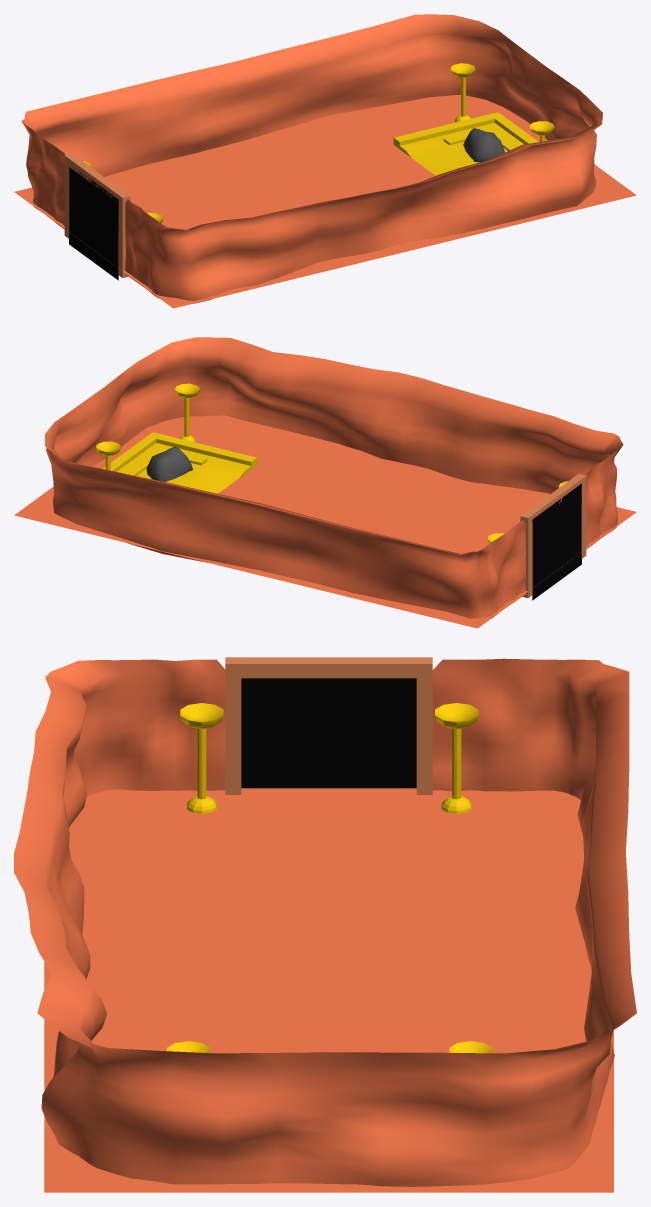
Rendered from templito.fbx.
3 views of the same model, one above another, from view 1: azimuth 30°, elevation 25°; view 2: azimuth 150°, elevation 25°; view 3: azimuth 270°, elevation 25° (orthographic). The views are drawn at different scales.
Parts seen in each view (by area): view 1: parede, chao, botao1, void1, porta1, pedra1, lampada1; view 2: parede, chao, botao1, void1, porta1, pedra1, lampada2; view 3: parede, chao, void1, porta1, lampada3, lampada4.
Boxes of the visible parts, x1=… form: parede: x1=21, y1=14, x2=602, y2=303; chao: x1=14, y1=95, x2=636, y2=308; botao1: x1=393, y1=112, x2=538, y2=175; void1: x1=69, y1=165, x2=118, y2=280; porta1: x1=64, y1=154, x2=130, y2=277; pedra1: x1=463, y1=128, x2=504, y2=162; lampada1: x1=450, y1=63, x2=475, y2=122; parede: x1=45, y1=337, x2=623, y2=618; chao: x1=14, y1=415, x2=636, y2=628; botao1: x1=103, y1=432, x2=257, y2=493; void1: x1=532, y1=483, x2=581, y2=600; porta1: x1=520, y1=474, x2=586, y2=597; pedra1: x1=146, y1=446, x2=192, y2=481; lampada2: x1=175, y1=383, x2=199, y2=442; parede: x1=14, y1=658, x2=636, y2=1186; chao: x1=44, y1=788, x2=613, y2=1192; void1: x1=241, y1=678, x2=416, y2=788; porta1: x1=225, y1=657, x2=432, y2=794; lampada3: x1=435, y1=703, x2=478, y2=813; lampada4: x1=180, y1=703, x2=223, y2=813.
Bounding box in the file's own units: 6083 × 1060 × 3907.
